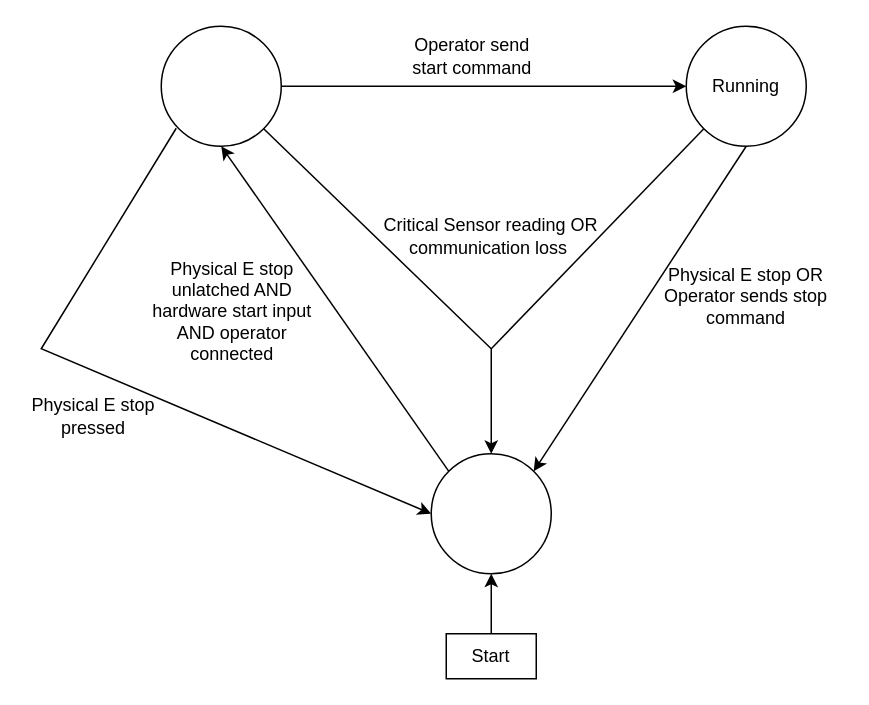
The diagram is 869 pixels wide and 705 high, and some of its shapes have lost their labels. Each missing label, with the centre of its shape:
Ready: (x=220, y=85)
STOP: (x=490, y=513)
